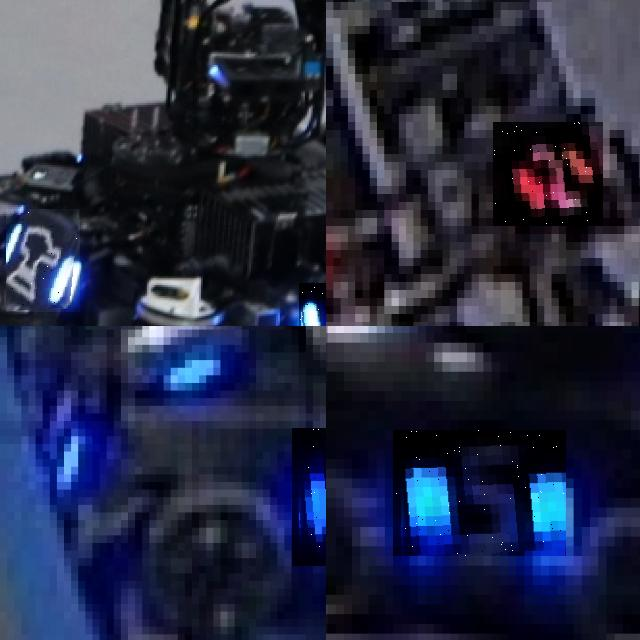B4: (291, 428, 326, 565)
B5: (393, 430, 566, 556)
Bs: (6, 209, 80, 312)
R2: (493, 122, 603, 226)
